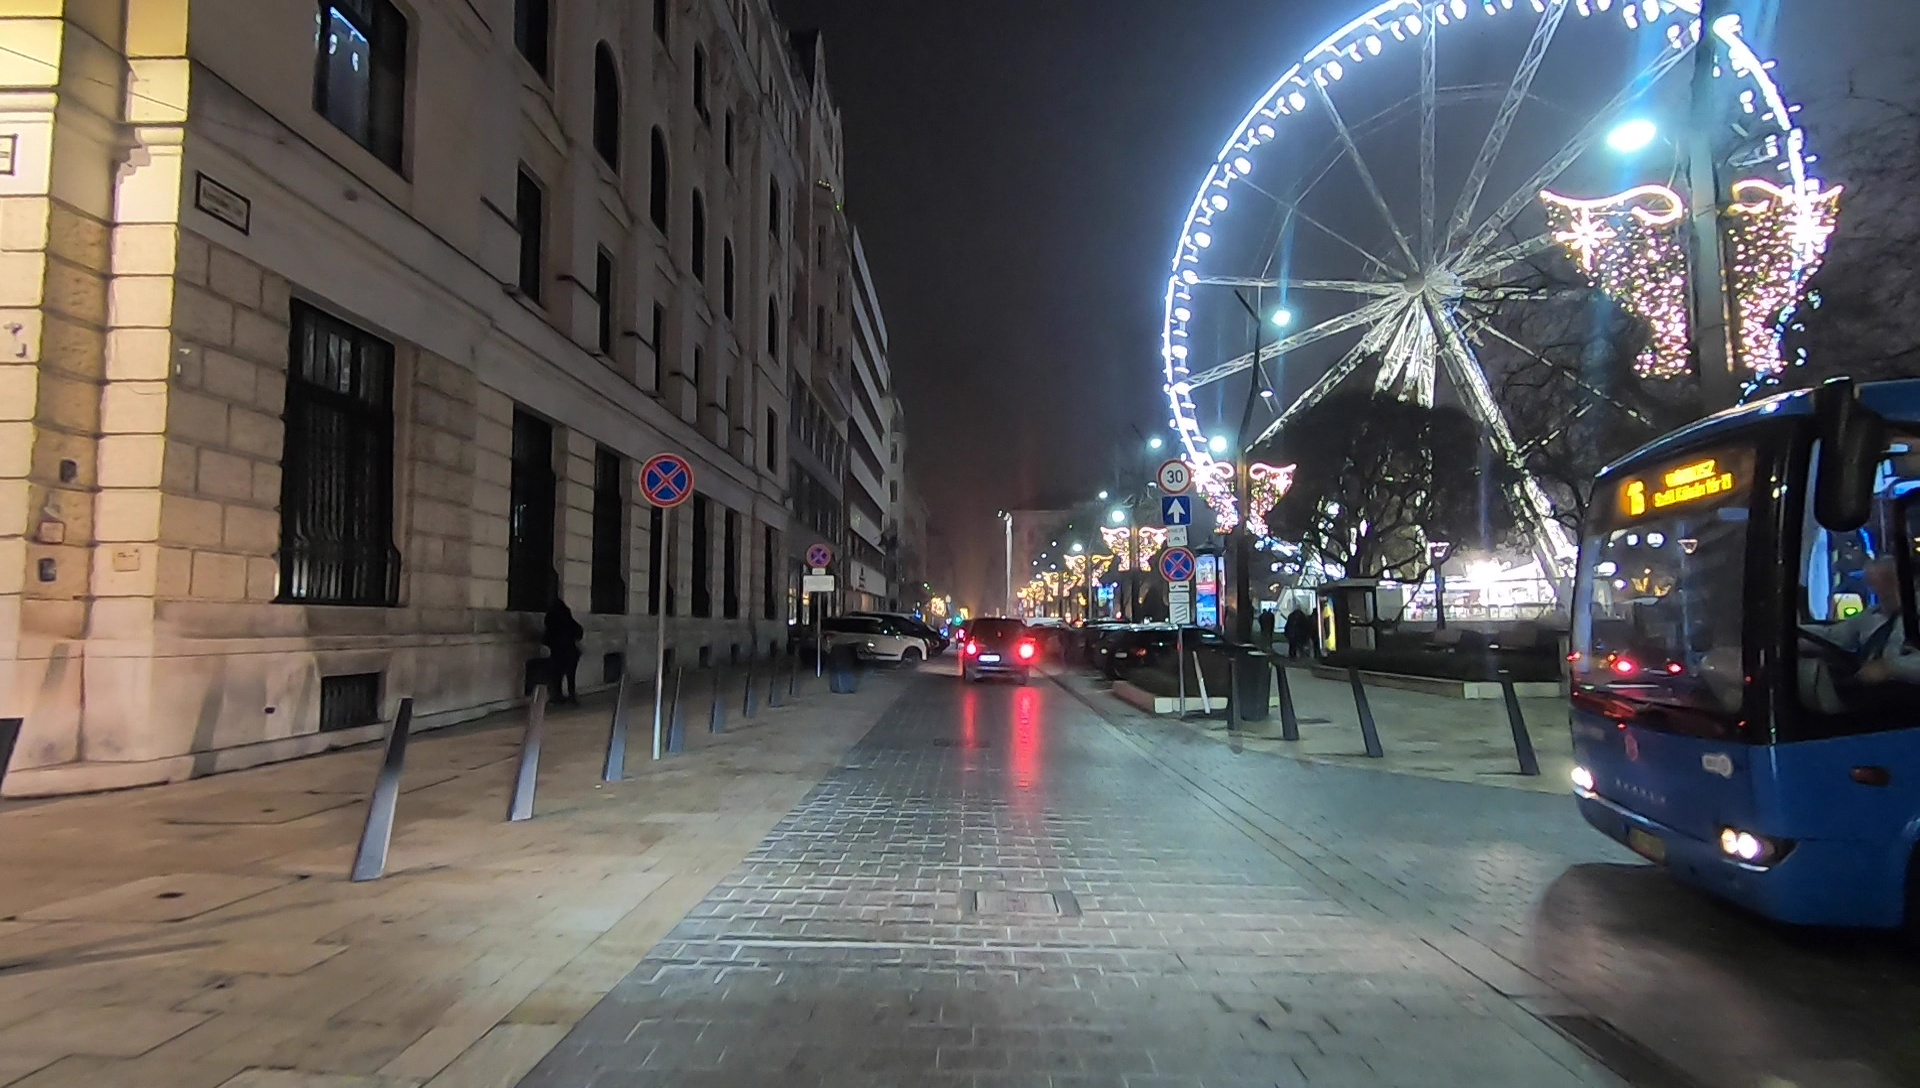person: (541, 595, 586, 704)
